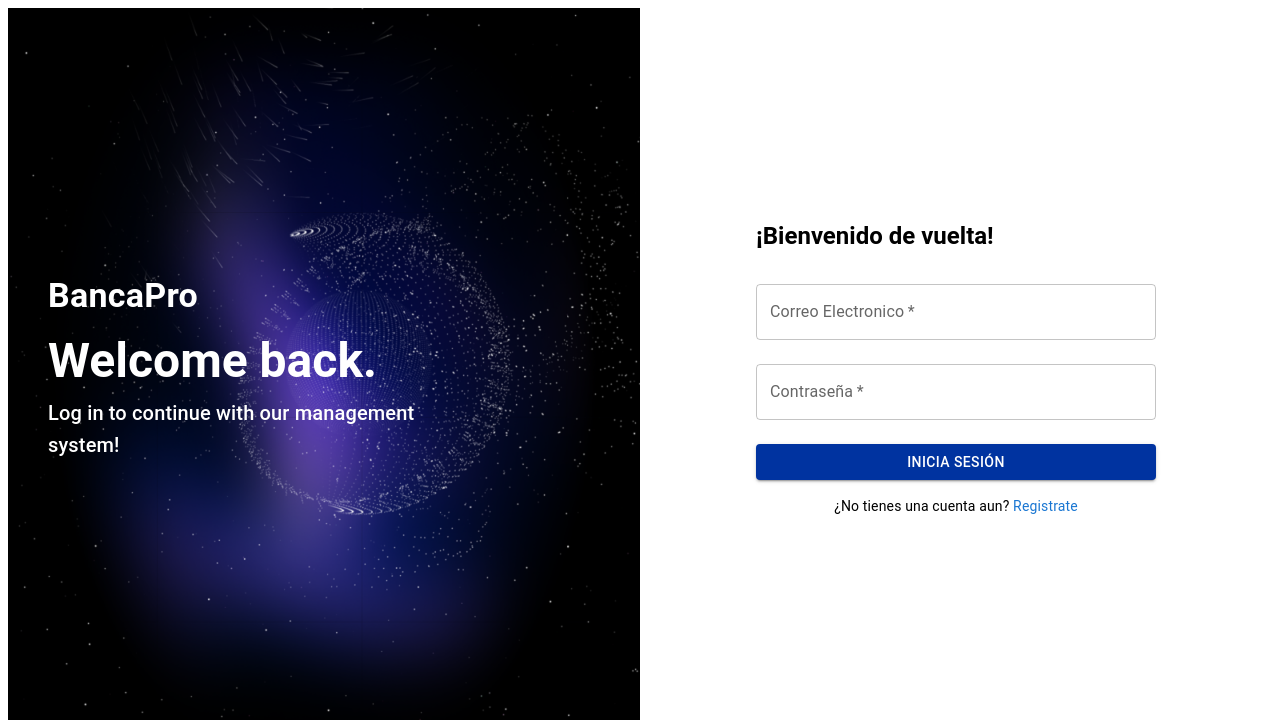
it: Página de Login › debería iniciar sesión correctamente con credenciales válidas
This screenshot has width=1280, height=720.
Type "usuario@valido.com" into the field labelled "Correo Electronico *" at (956, 312), box [756,284,1156,340]
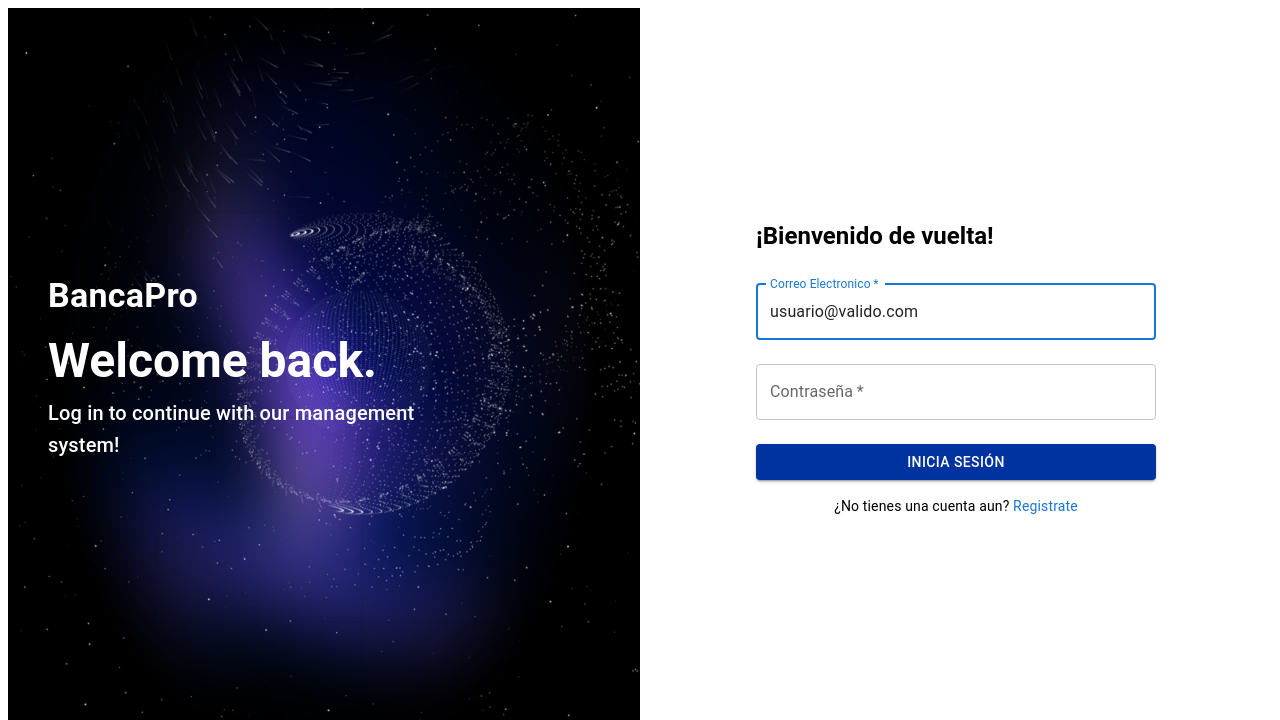
Type "correctpassword" into the password field labelled "Contraseña *" at (956, 392), box [756,364,1156,420]
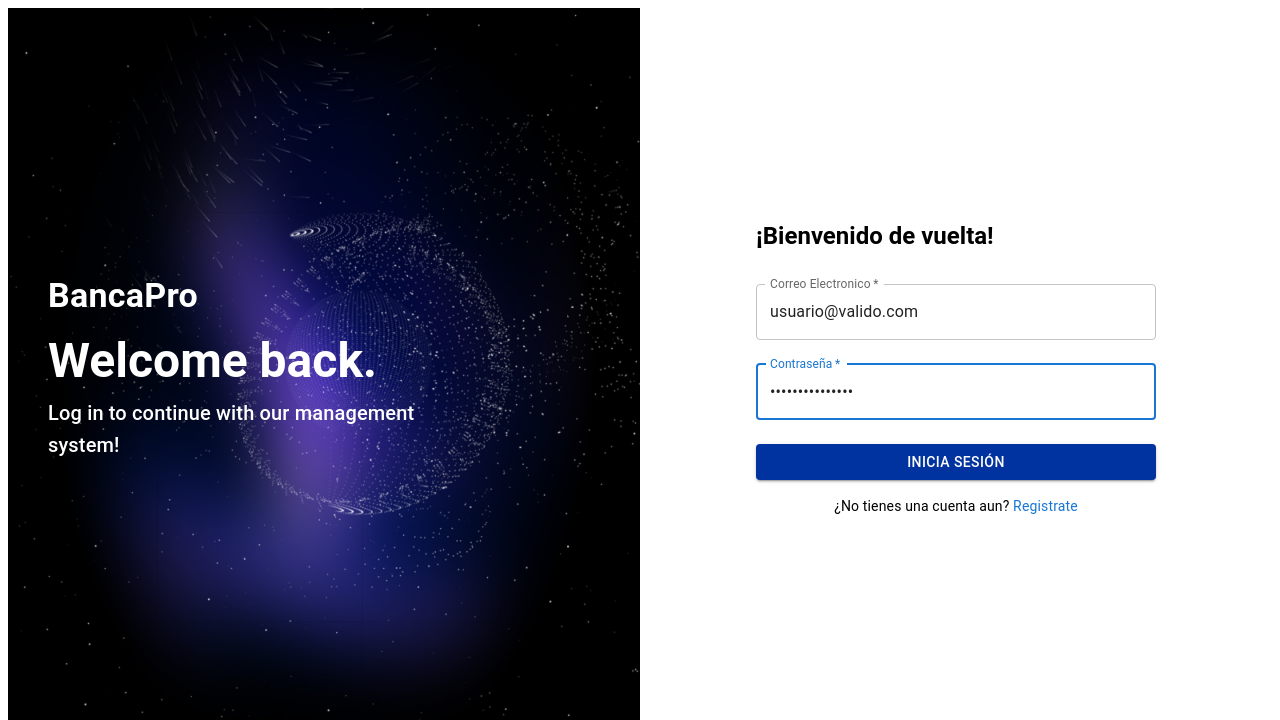
Click the submit button at (956, 463), box [756,444,1156,481]
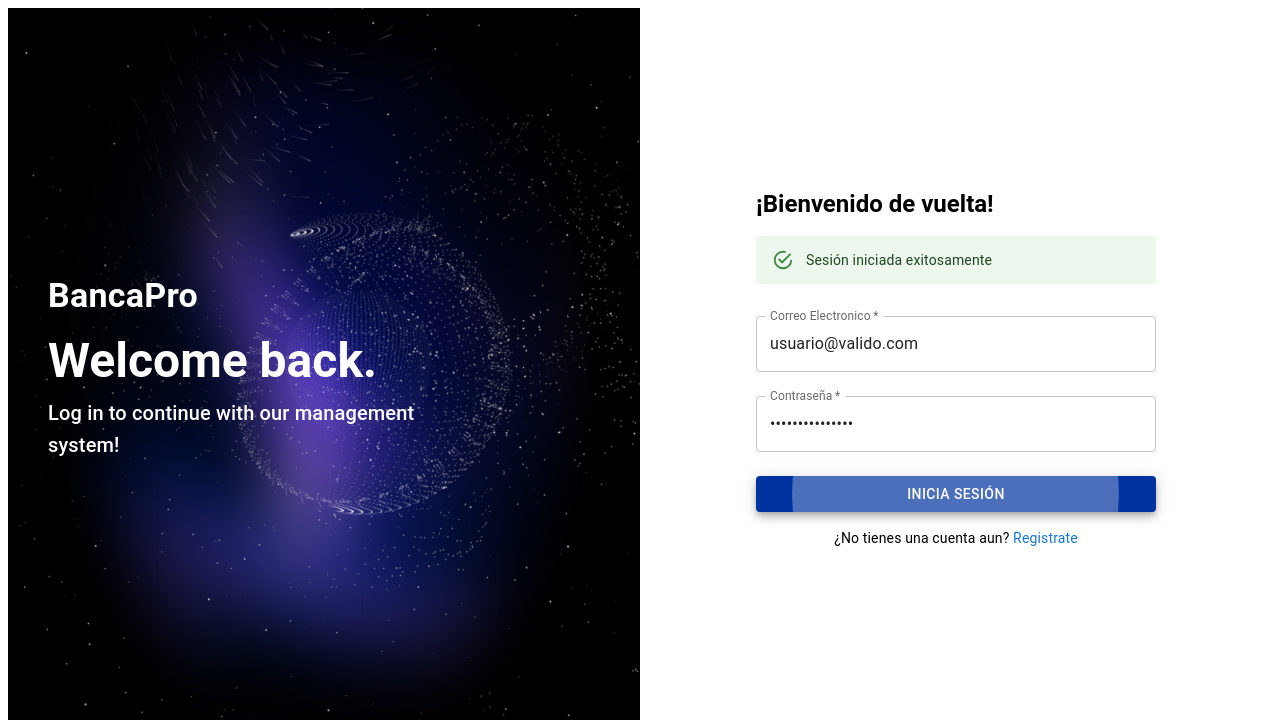
Expected: the text "Sesión iniciada exitosamente" is shown, [806,252,992,268]
